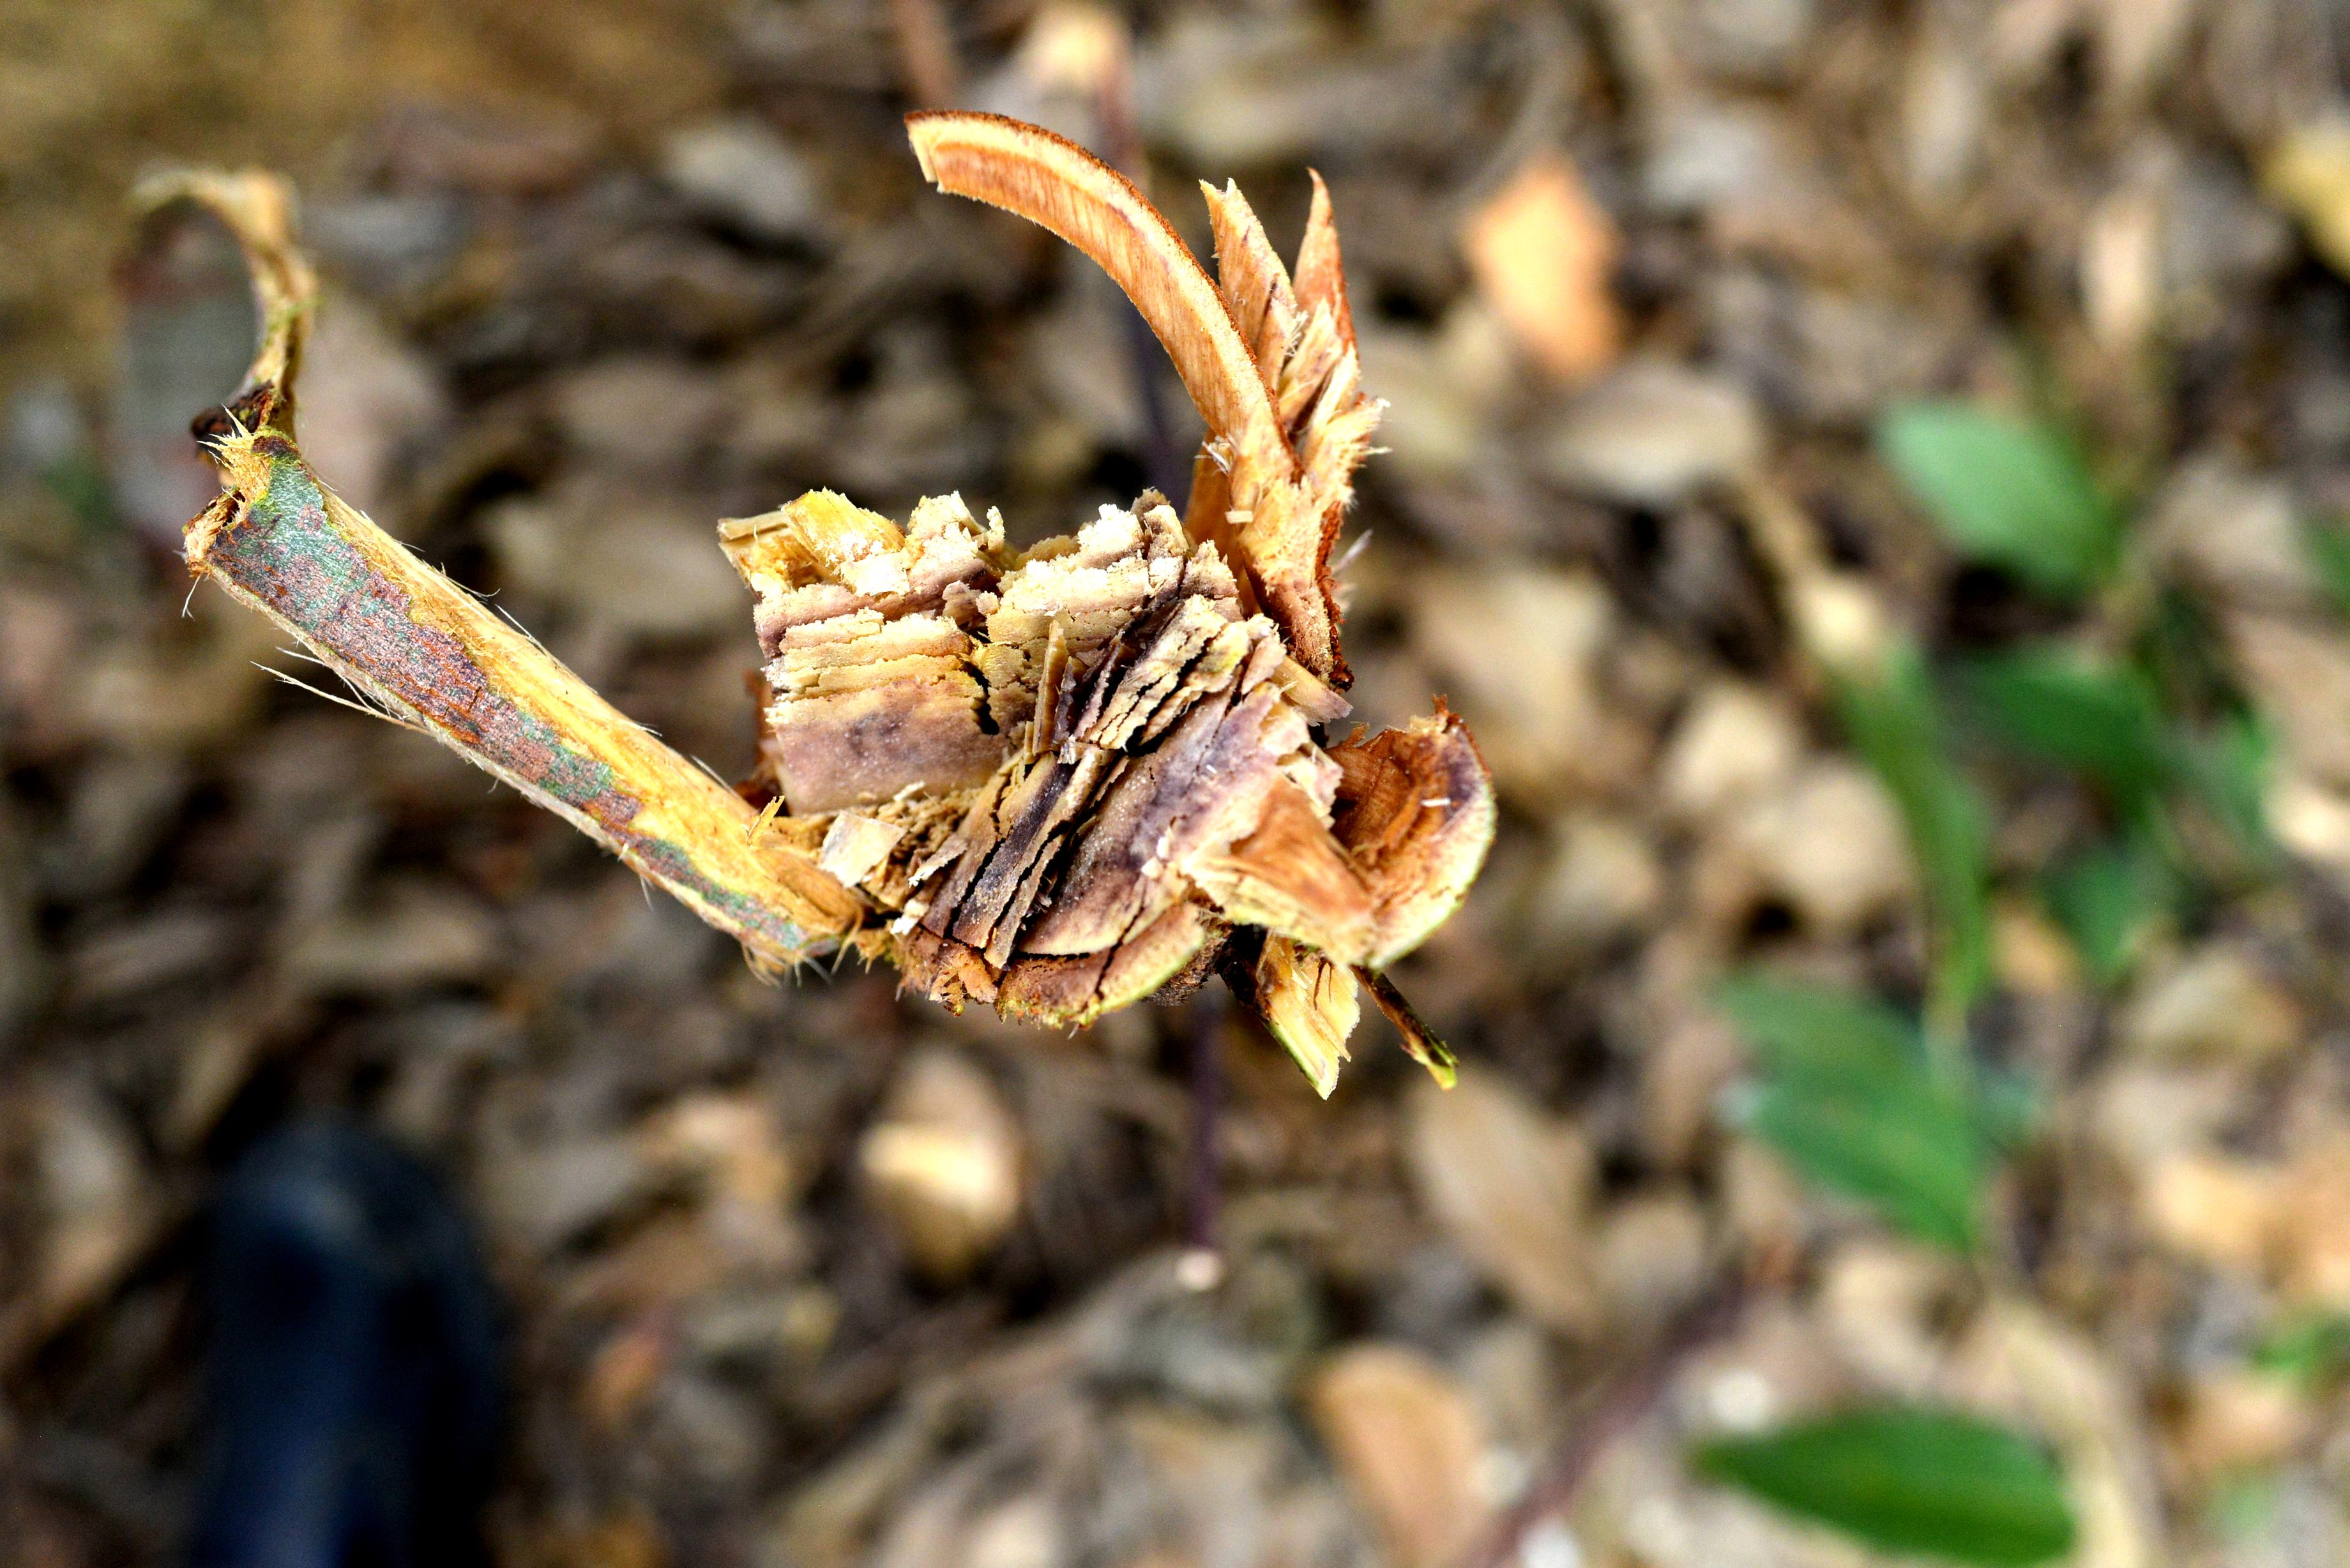Ralstonia: (1046, 761, 1157, 933), (966, 843, 1013, 924)
